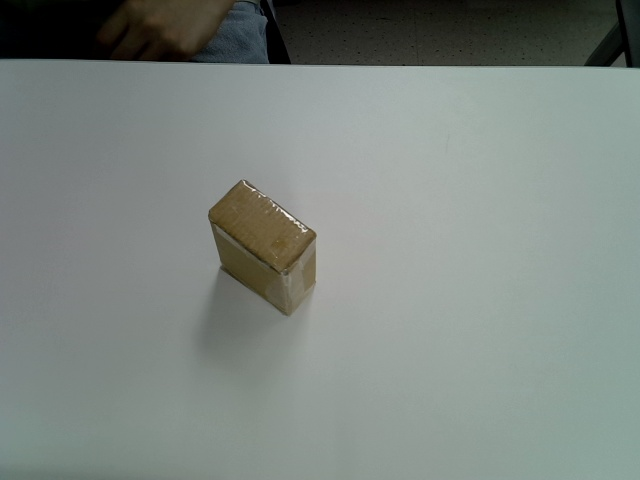normal: (209, 179, 317, 317)
